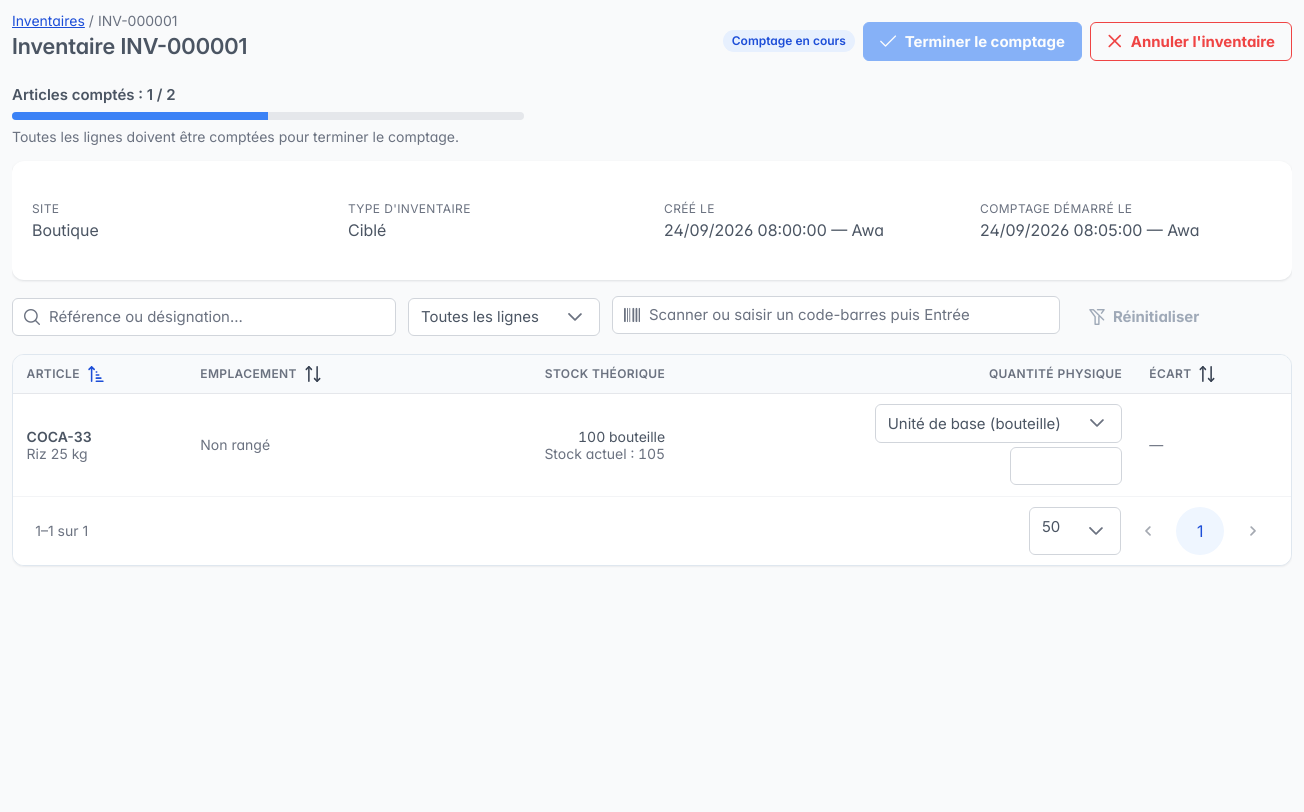
it: scan des écrans opérationnels (Lot 3-D) › inventaire : ligne exacte de l’article, présentation présélectionnée, quantité non devinée
Expected: the field named "Quantité physique de COCA-33" is shown, [1010,447,1122,485]
Type "C-1" into the field named "Scanner un code-barres". click: [836, 315]
box: [612,296,1060,334]
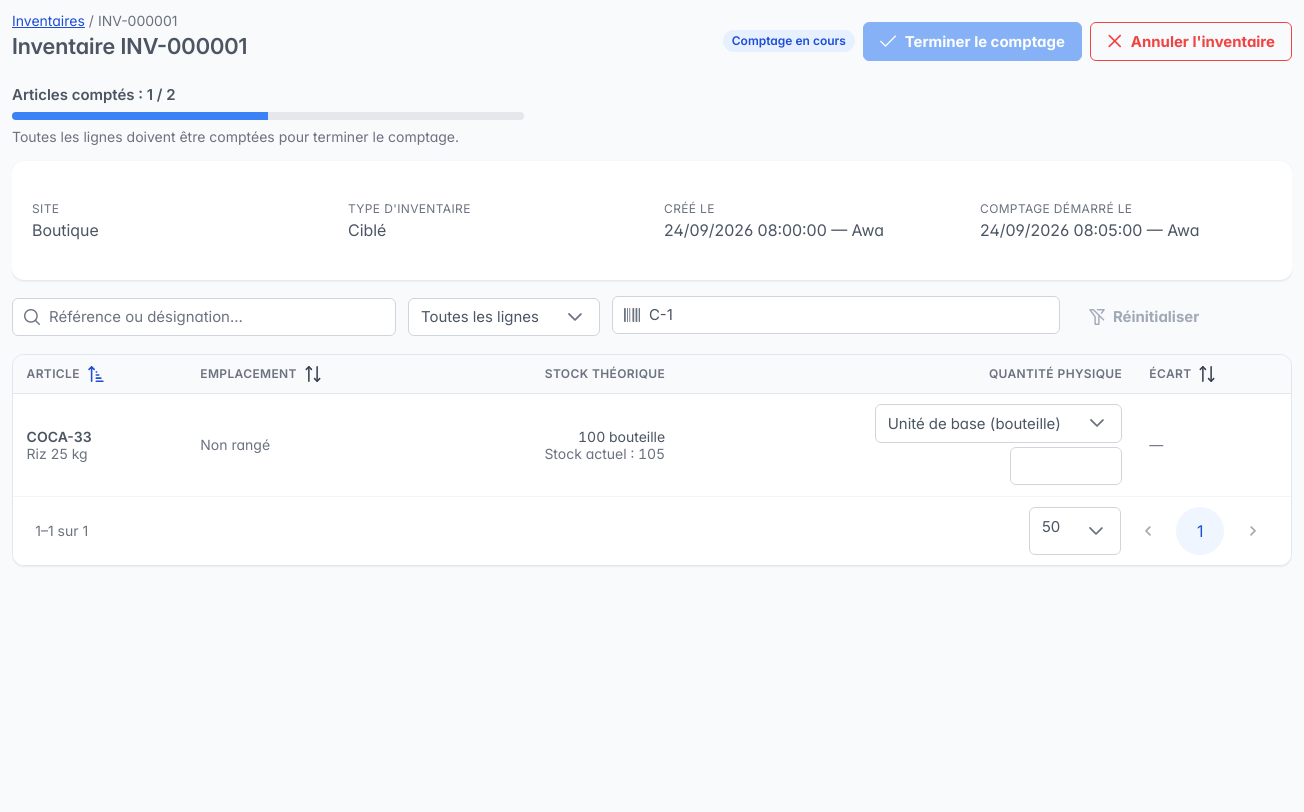
Press Enter in the field named "Scanner un code-barres", box [612,296,1060,334]
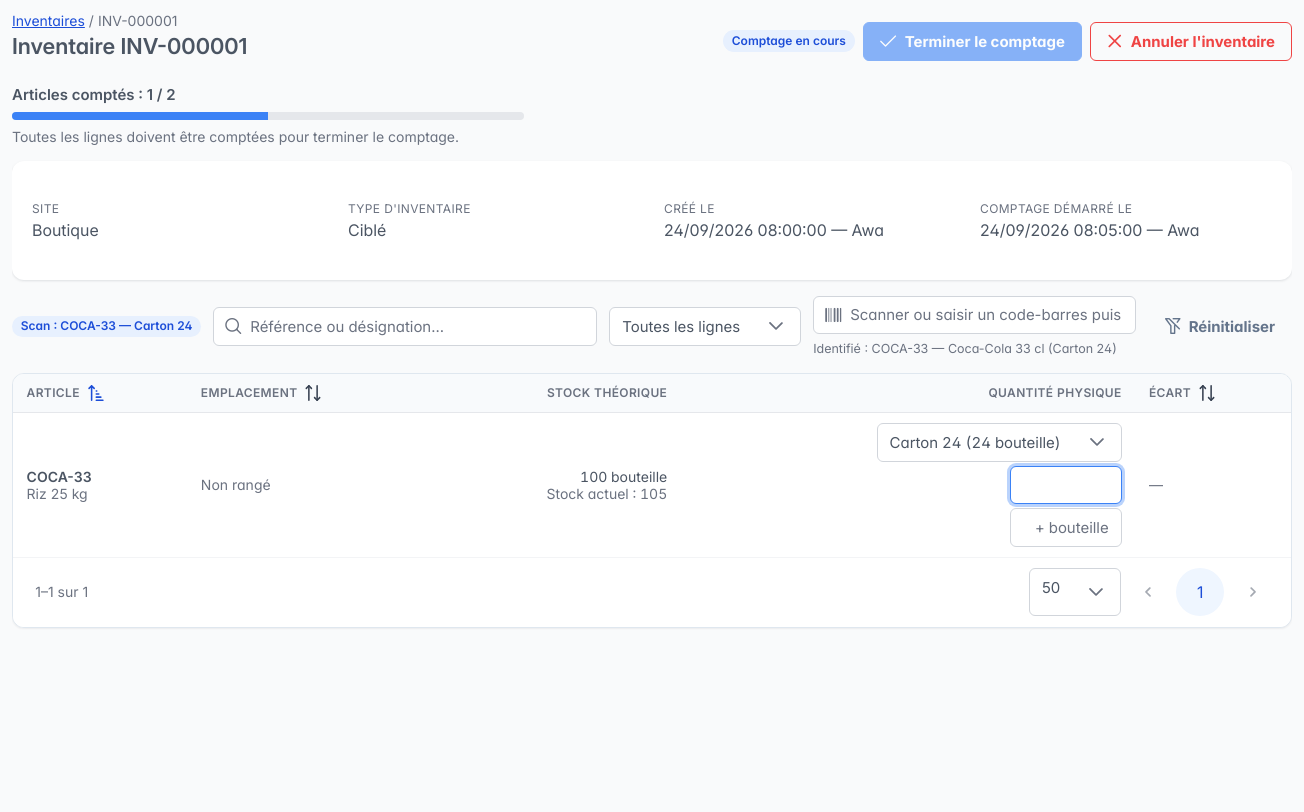
Expected: the field named "Nombre de Carton 24 comptés pour COCA-33" is empty, [1010,466,1122,504]
Expected: the text "Scan : COCA-33 — Carton 24" is shown, [12,316,201,337]
